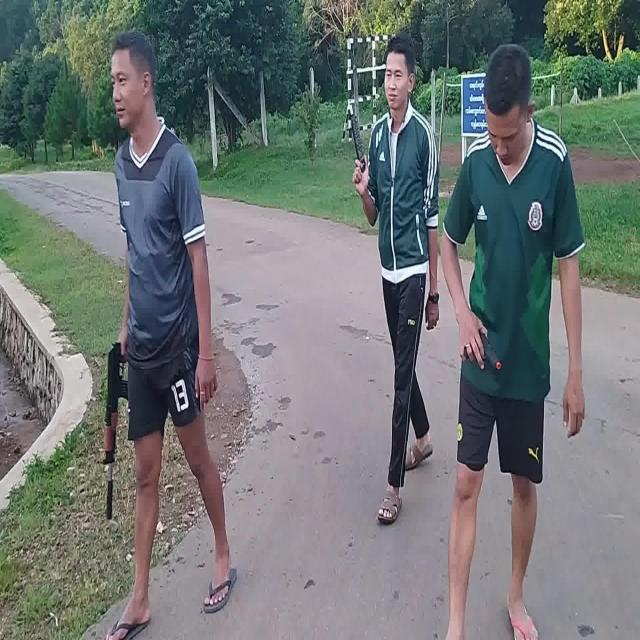gun: (104, 343, 129, 519), (464, 329, 501, 371)
